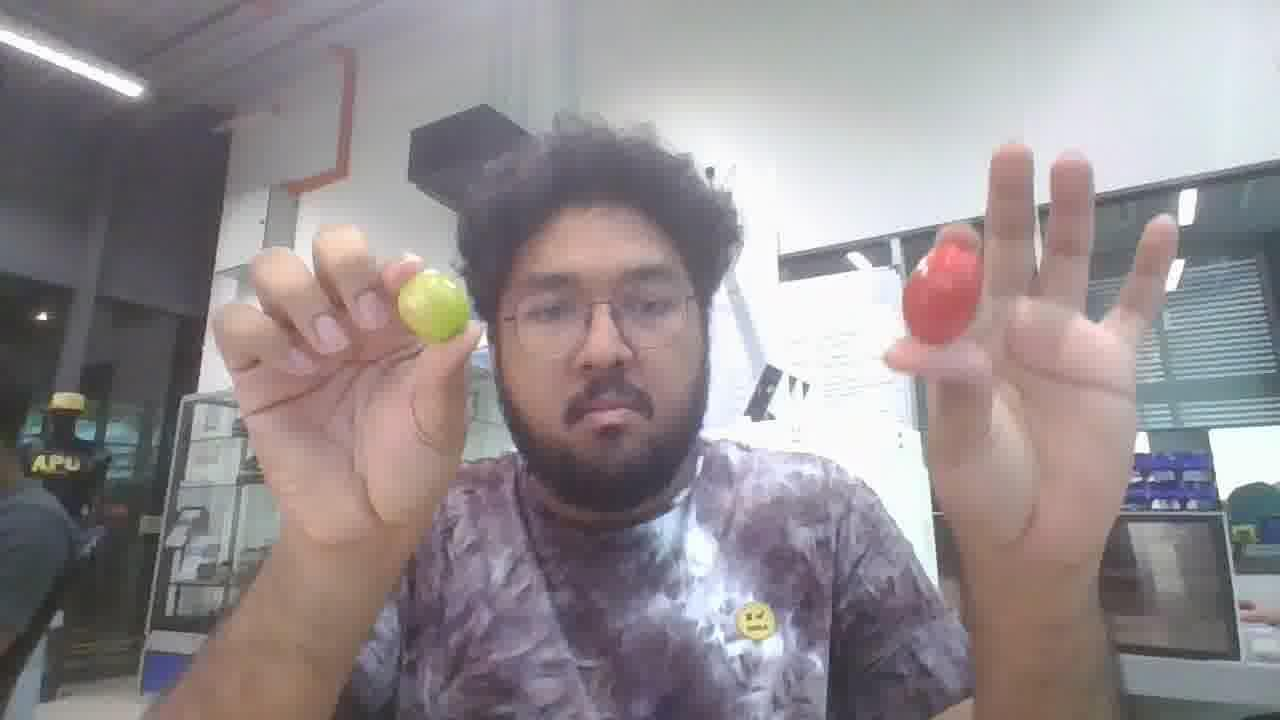green_cherry_tomato: (397, 269, 470, 343)
red_cherry_tomato: (902, 240, 982, 344)
